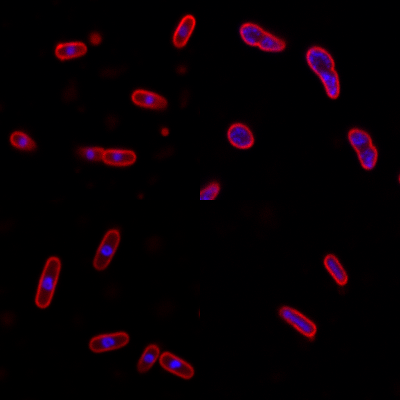CAM: (34, 256, 63, 309), (90, 227, 123, 271), (85, 330, 131, 355), (159, 351, 195, 381), (172, 13, 196, 48), (54, 41, 88, 62)
Mecillinam: (303, 46, 340, 100), (238, 21, 285, 52), (347, 127, 378, 171), (225, 122, 255, 150)
Oblique: (71, 144, 138, 166), (129, 88, 170, 112), (136, 343, 160, 375), (8, 128, 37, 151)
Rifampicin: (277, 304, 317, 338), (322, 253, 349, 286)
Vesicle: (89, 32, 102, 46), (158, 125, 170, 138)
